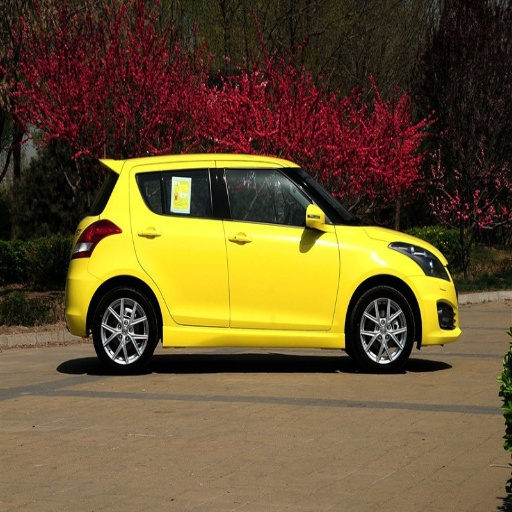back_right_door: (133, 162, 229, 326)
front_right_door: (219, 165, 339, 329)
